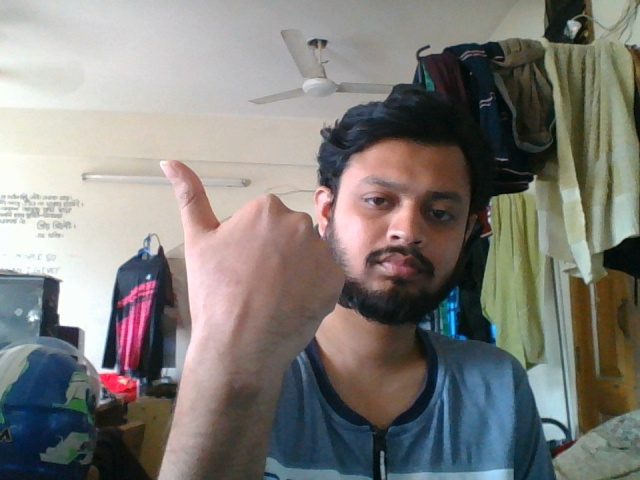do: (147, 155, 353, 461)
